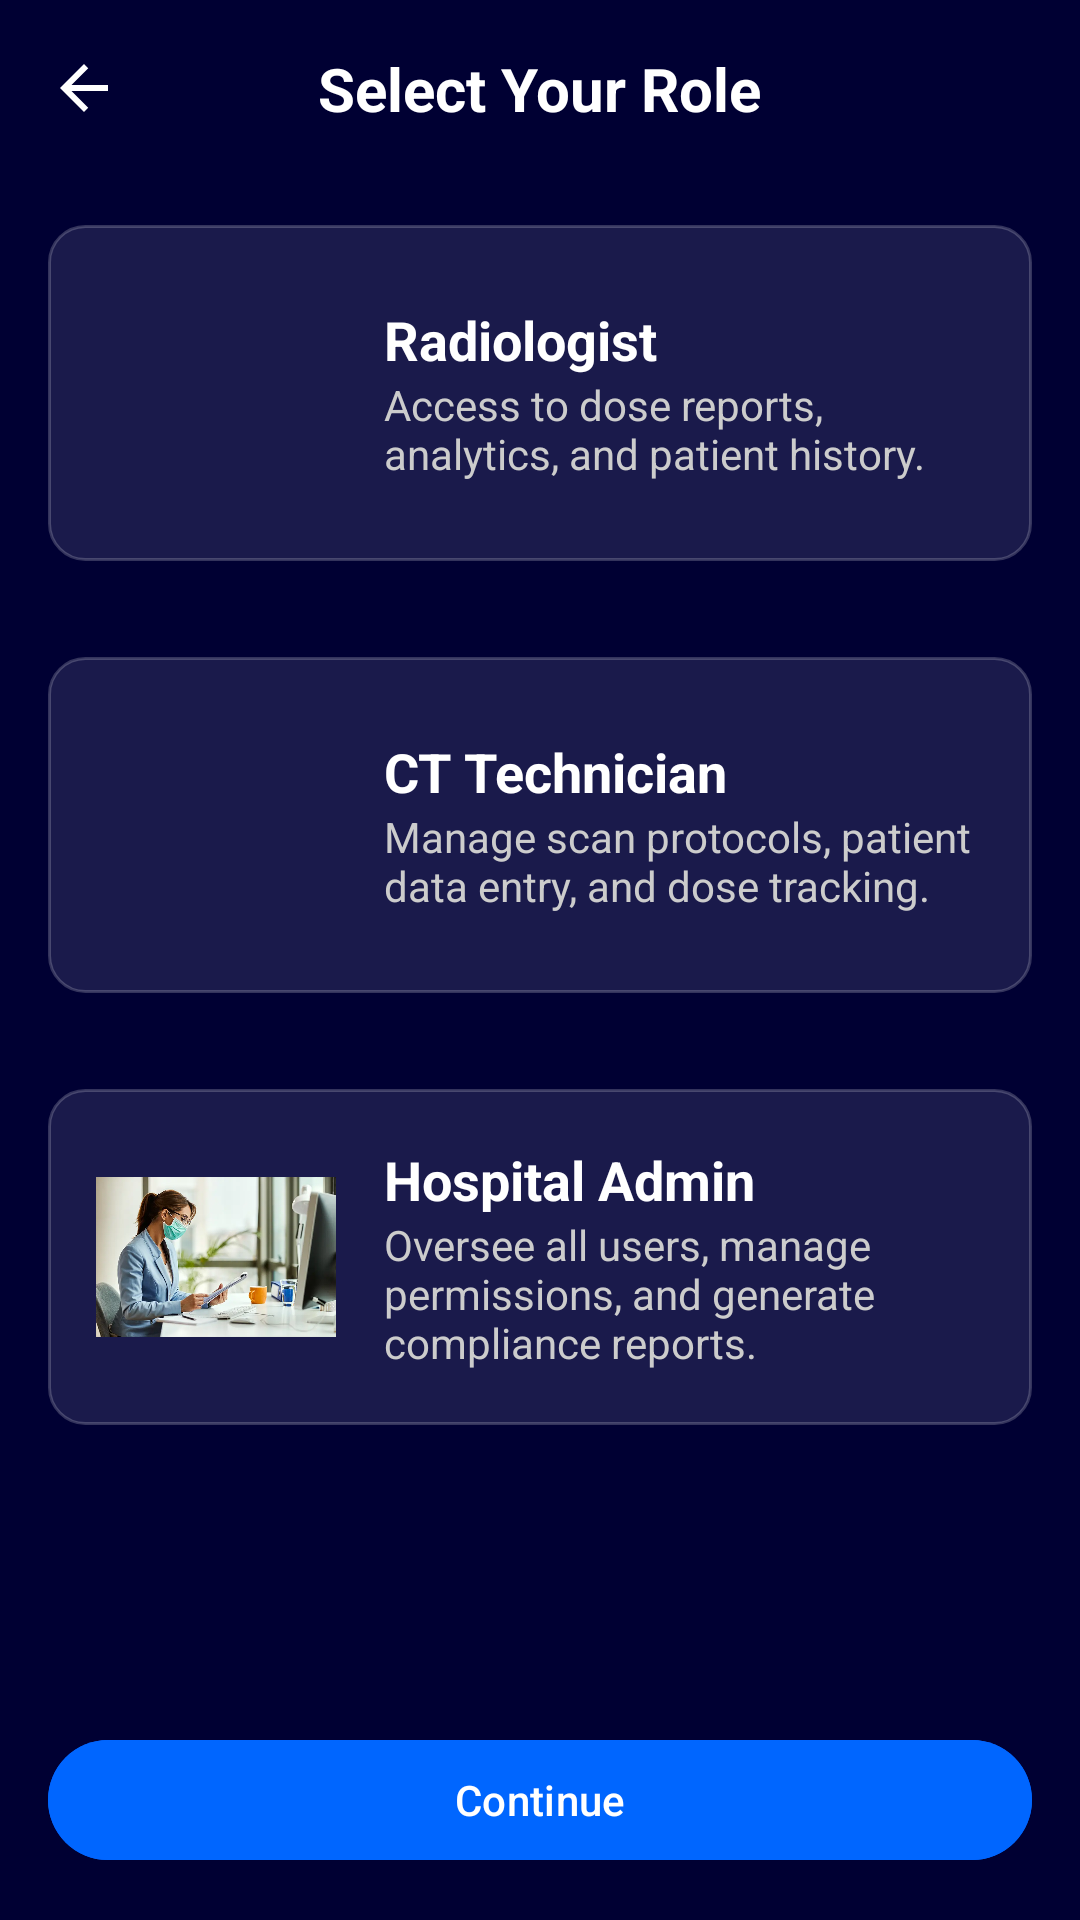

Screen size 1080px×1920px. Icon name, then its box in pixels as (left=x1, top=y1, right=x2, bottom=y2):
arrow back: (left=60, top=64, right=108, bottom=112)
